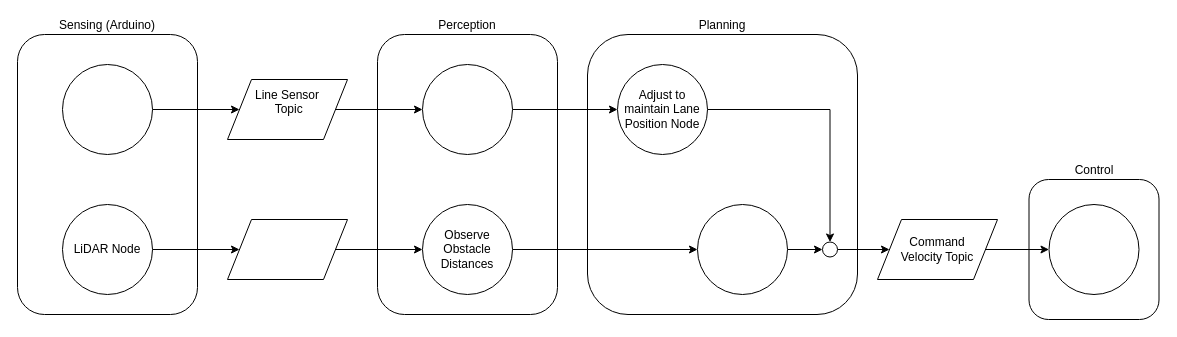
Some shapes in this 1177 by 337 pixel diagram are drawn without their labels. Here are the shapes that lost their labels. From the top down, the centre of each, then its label:
(107,109): Line Sensor Node
(467,109): Observe Line Distances
(287,249): Proximity Sensor Topic
(742,249): Overtake Node
(1093,249): Motor Node
